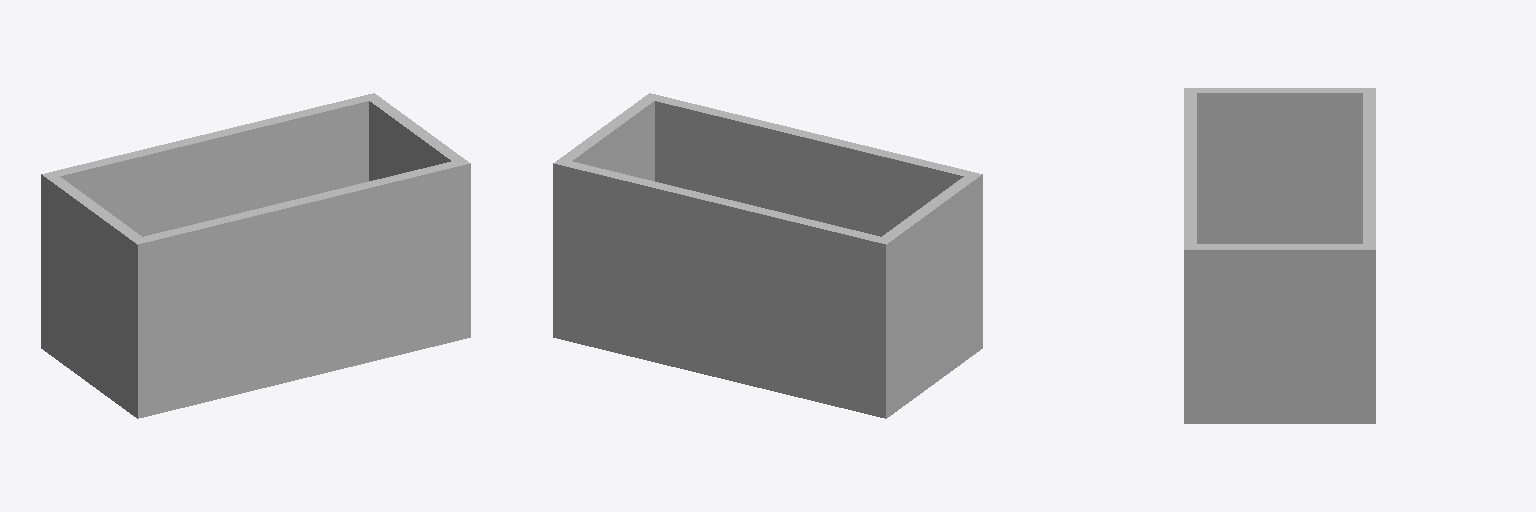
Rendered from untitled-scene-bak.obj.
3 views of the same model, side by side, from view 1: azimuth 30°, elevation 25°; view 2: azimuth 150°, elevation 25°; view 3: azimuth 270°, elevation 25° (orthographic).
Parts seen in each view (by area): view 1: Box; view 2: Box; view 3: Box.
Part boxes in pixels (x1,y1,x2,y2): Box: (41, 93, 470, 418); Box: (553, 93, 982, 418); Box: (1184, 88, 1375, 423).
Size of the model in its own units: 2 by 1 by 1.